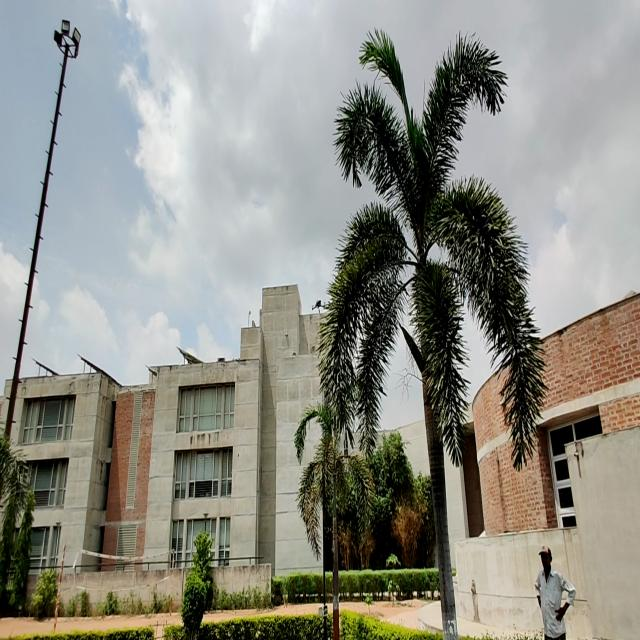drone: (310, 296, 326, 321)
